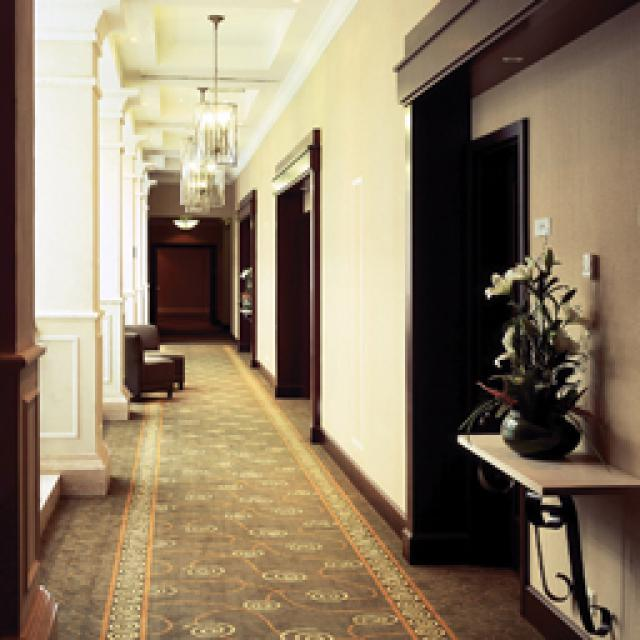ceiling beam: (2, 0, 635, 45)
chair: (88, 280, 170, 382), (258, 270, 348, 342), (512, 280, 590, 362)
chair -occluded-: (248, 375, 528, 635), (480, 332, 608, 622), (568, 310, 630, 510)
conference table: (0, 342, 545, 635)
plant -x: (215, 238, 355, 345), (592, 220, 638, 350)
projector: (80, 380, 230, 455)
speaker: (218, 370, 290, 428)
television: (408, 305, 532, 350)
television cabinet: (428, 212, 535, 310)
